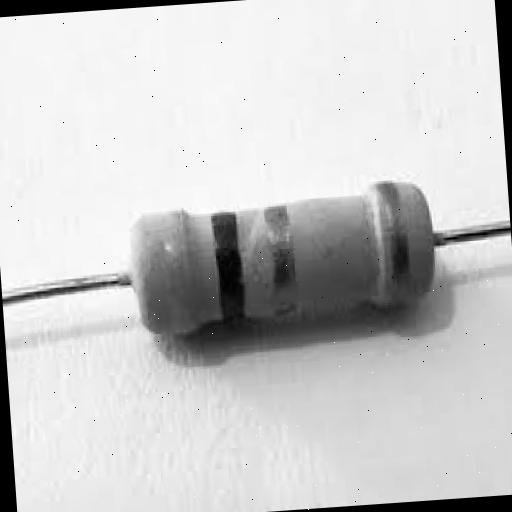RESISTOR: (70, 130, 458, 412)
